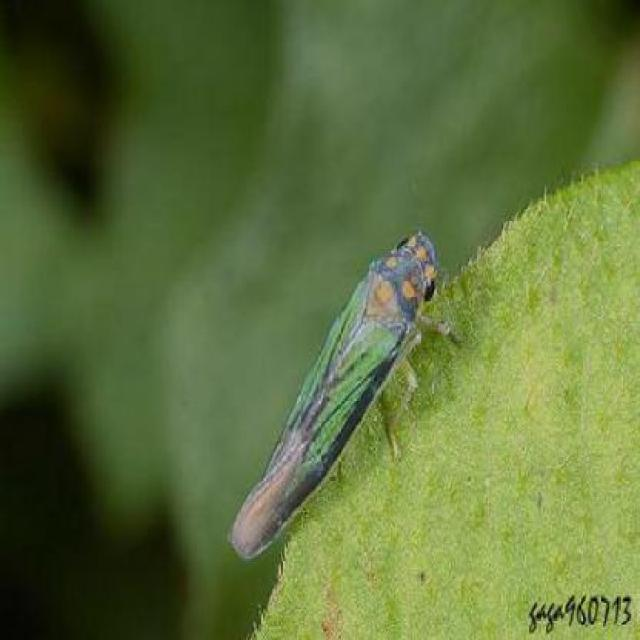green-leafhopper: (233, 234, 466, 559)
